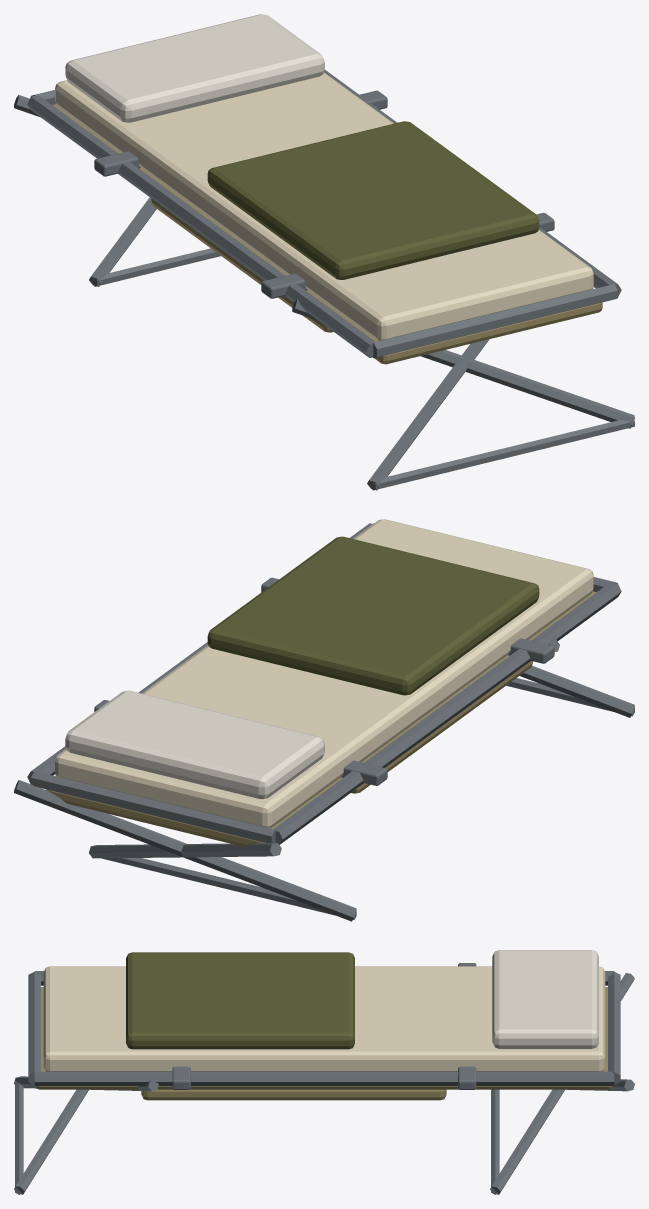
The model's file is cot.glb.
3 renders of one model, top to bottom at view 1: azimuth 30°, elevation 25°; view 2: azimuth 150°, elevation 25°; view 3: azimuth 270°, elevation 25°, orthographic. The views are drawn at different scales.
Parts seen in each view (by area): view 1: cot; view 2: cot; view 3: cot.
Boxes of the visible parts, x1=… form: cot: x1=14, y1=14, x2=634, y2=490; cot: x1=14, y1=519, x2=634, y2=921; cot: x1=14, y1=950, x2=634, y2=1194.
Size of what is drawn, in the model's own units: 0.92 by 0.5464 by 2.04.
Materials: 3 (3 with a texture image).
